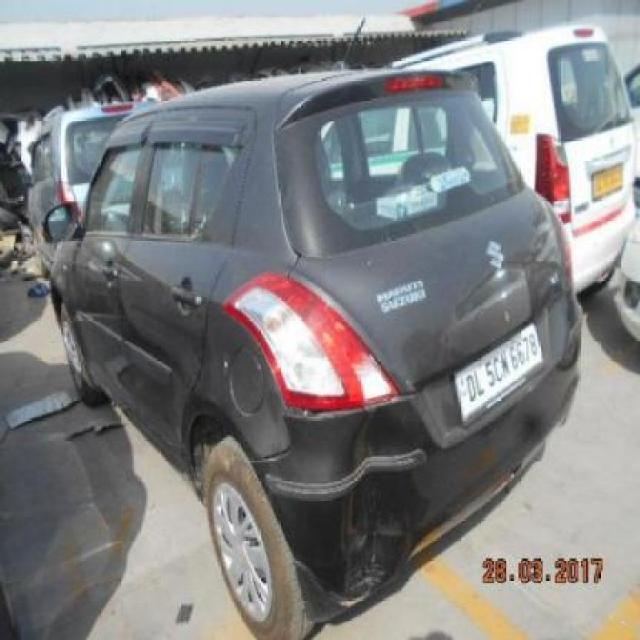damage: (331, 410, 431, 612), (287, 393, 415, 425), (251, 414, 300, 465)
